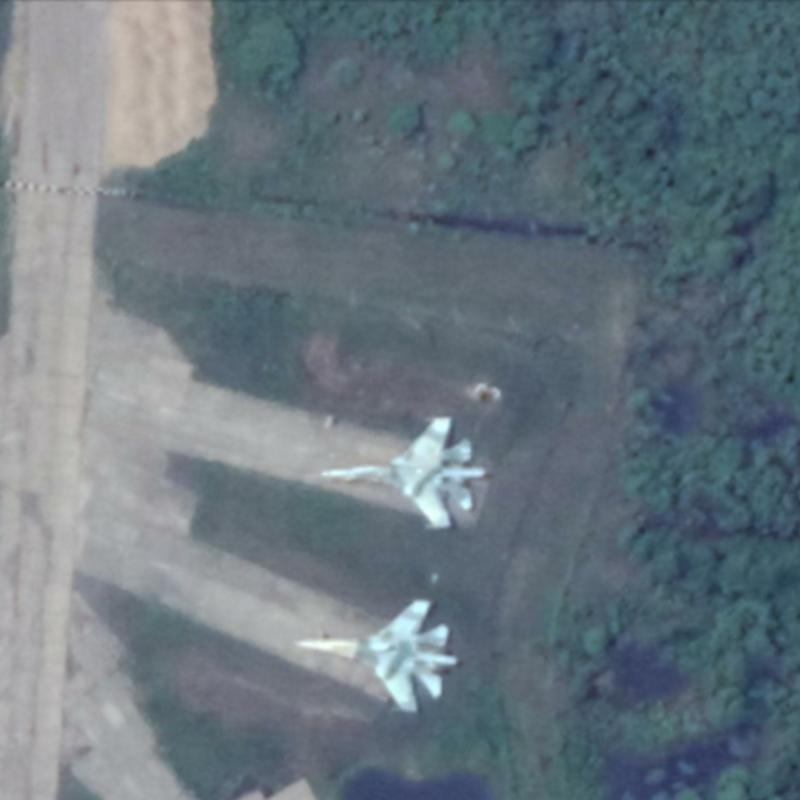A1: (315, 411, 488, 533), (290, 593, 461, 715)
